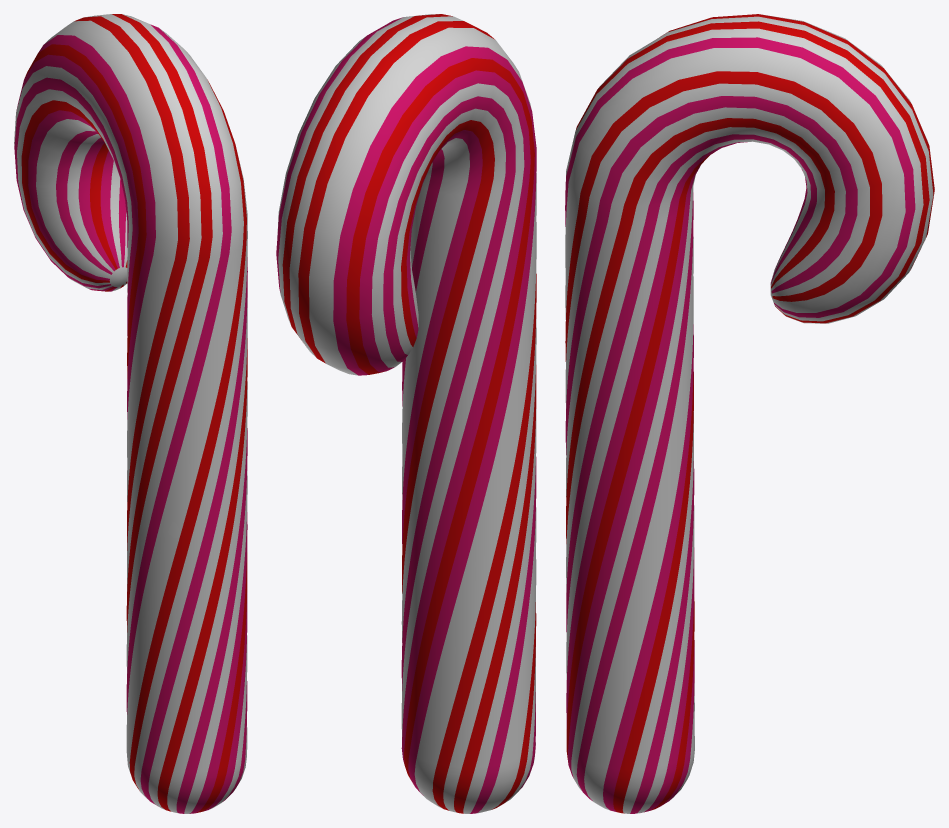
File: candy cane.obj
The picture shows the model from 3 angles, left to right: view 1: azimuth 30°, elevation 25°; view 2: azimuth 150°, elevation 25°; view 3: azimuth 270°, elevation 25°; orthographic projection. The views are drawn at different scales.
Visible parts, largest first — view 1: Sphere; view 2: Sphere; view 3: Sphere.
Part boxes in pixels (x1,y1,x2,y2): Sphere: (14, 14, 247, 813); Sphere: (276, 14, 536, 813); Sphere: (565, 14, 934, 813).
Bounding box in the file's own units: 2 × 13.54 × 5.76.
